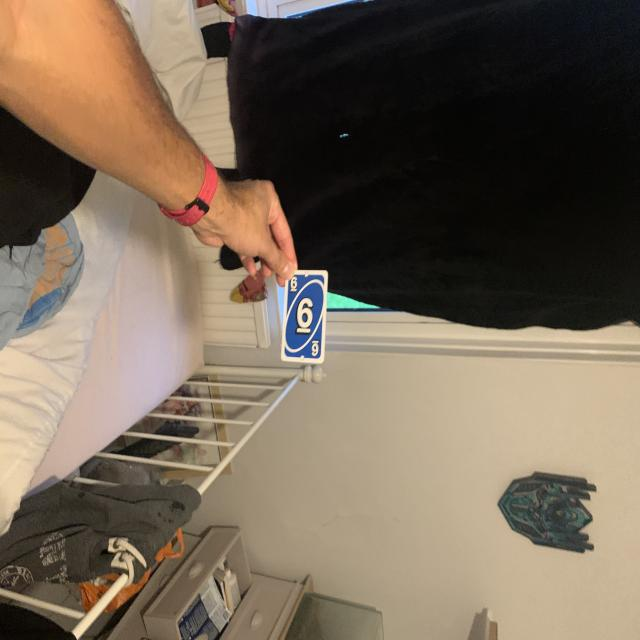lblue-6: (287, 271, 300, 294)
